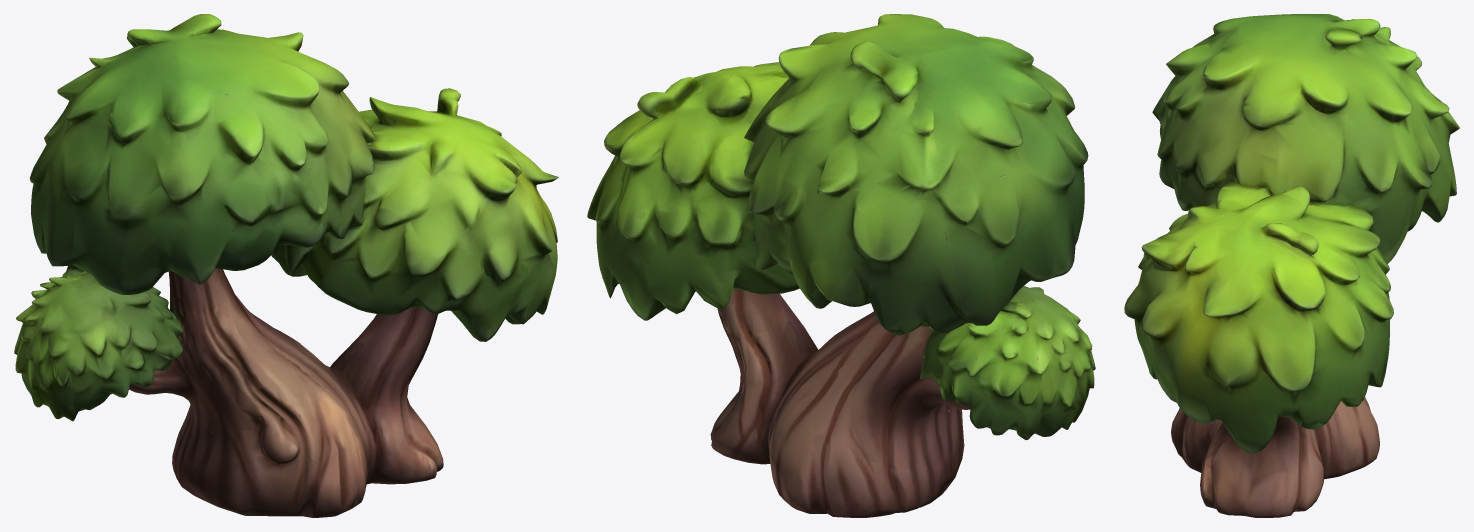
File: emerald_canopy.glb
3 renders of one model, left to right at view 1: azimuth 30°, elevation 25°; view 2: azimuth 150°, elevation 25°; view 3: azimuth 270°, elevation 25°, orthographic. The views are drawn at different scales.
Visible parts, largest first — view 1: Mesh_0; view 2: Mesh_0; view 3: Mesh_0.
Part boxes in pixels (x1,y1,x2,y2): Mesh_0: (14, 14, 558, 517); Mesh_0: (587, 14, 1095, 517); Mesh_0: (1124, 14, 1459, 517).
Size of the model in its own units: 1.9 by 1.66 by 1.24.
Materials: 1 (1 with a texture image).
